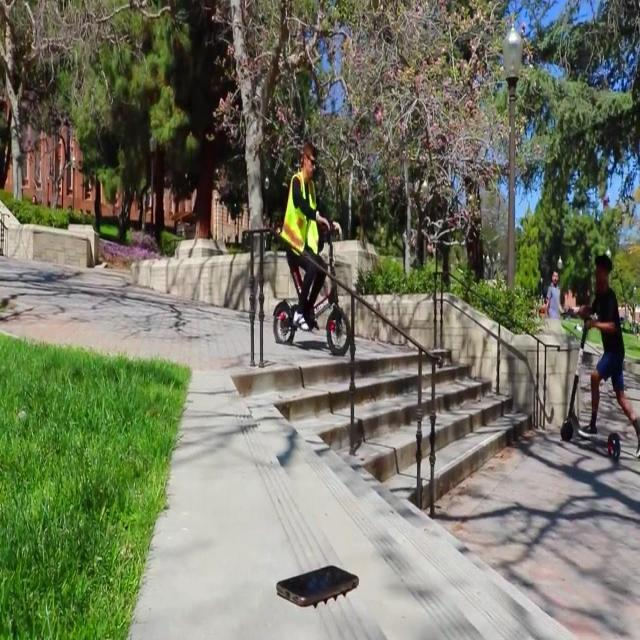reflective_jacket: (281, 170, 323, 260)
